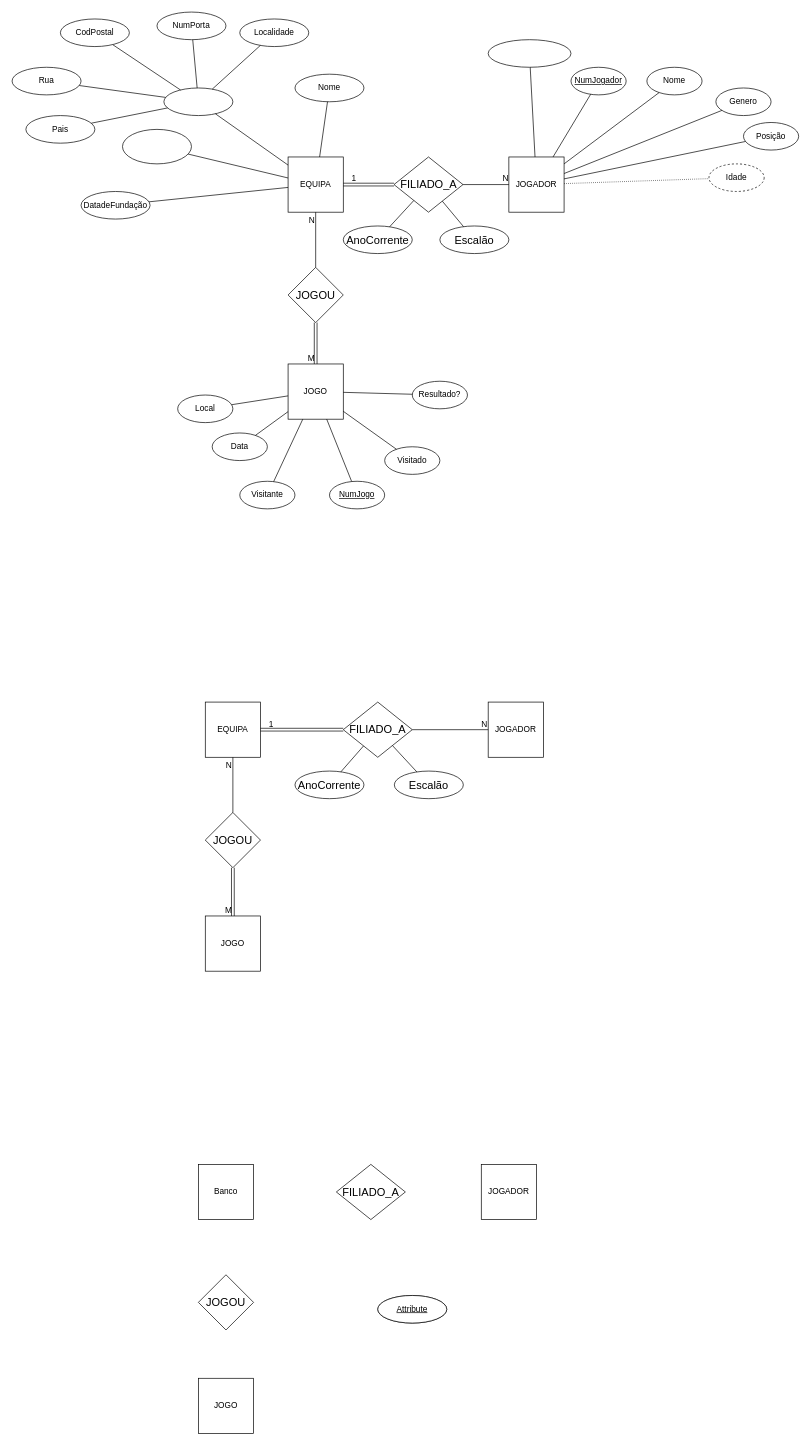
This 811x1446 diagram has some shape labels left out. The centre of each missing label's shape, as x and y in pixels:
DataDeNascimento: [529,53]
Morada: [198,101]
NumInterno: [156,146]
